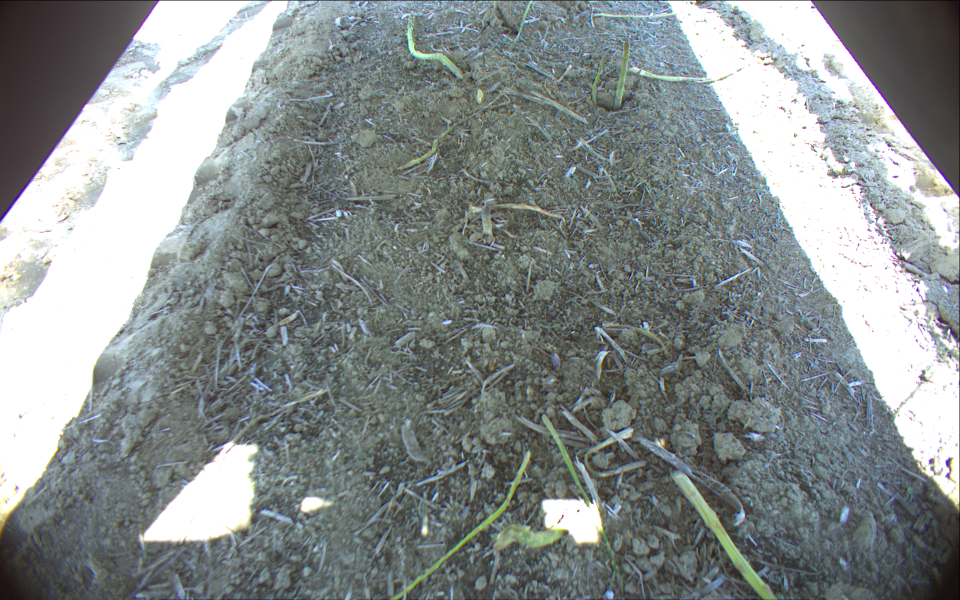aspa: (383, 451, 530, 600), (542, 413, 626, 595), (672, 470, 775, 600), (394, 116, 473, 172), (406, 13, 464, 78), (630, 65, 752, 84), (616, 35, 632, 113), (592, 9, 688, 20), (513, 1, 532, 42), (592, 58, 607, 106), (482, 202, 493, 237)
